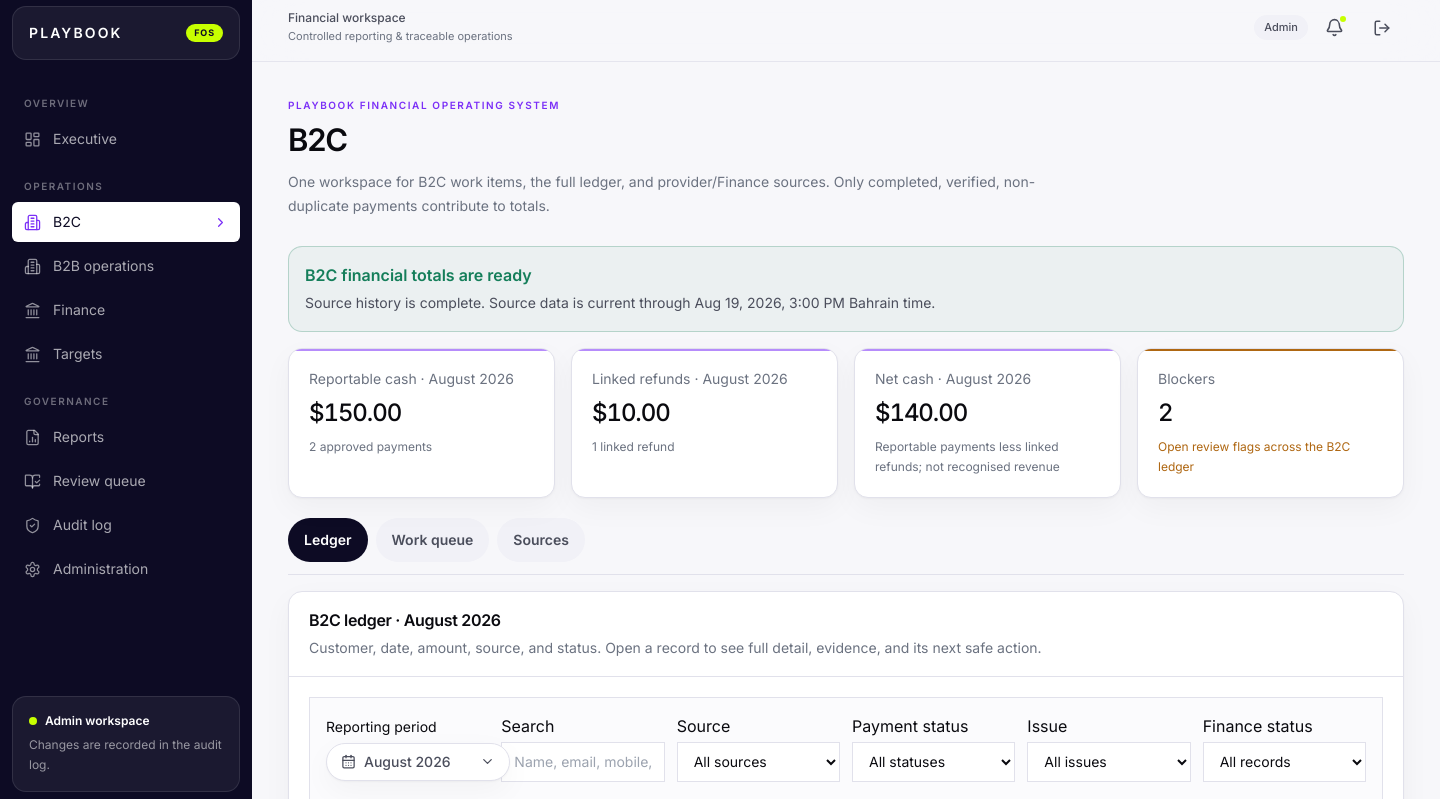
Test: Ledger › asks the server to apply a Source filter and renders the returned ledger page unchanged
Select "Stripe" in the dropdown labelled "Source" at (758, 762), box [677,742,840,782]
(page scrolled)
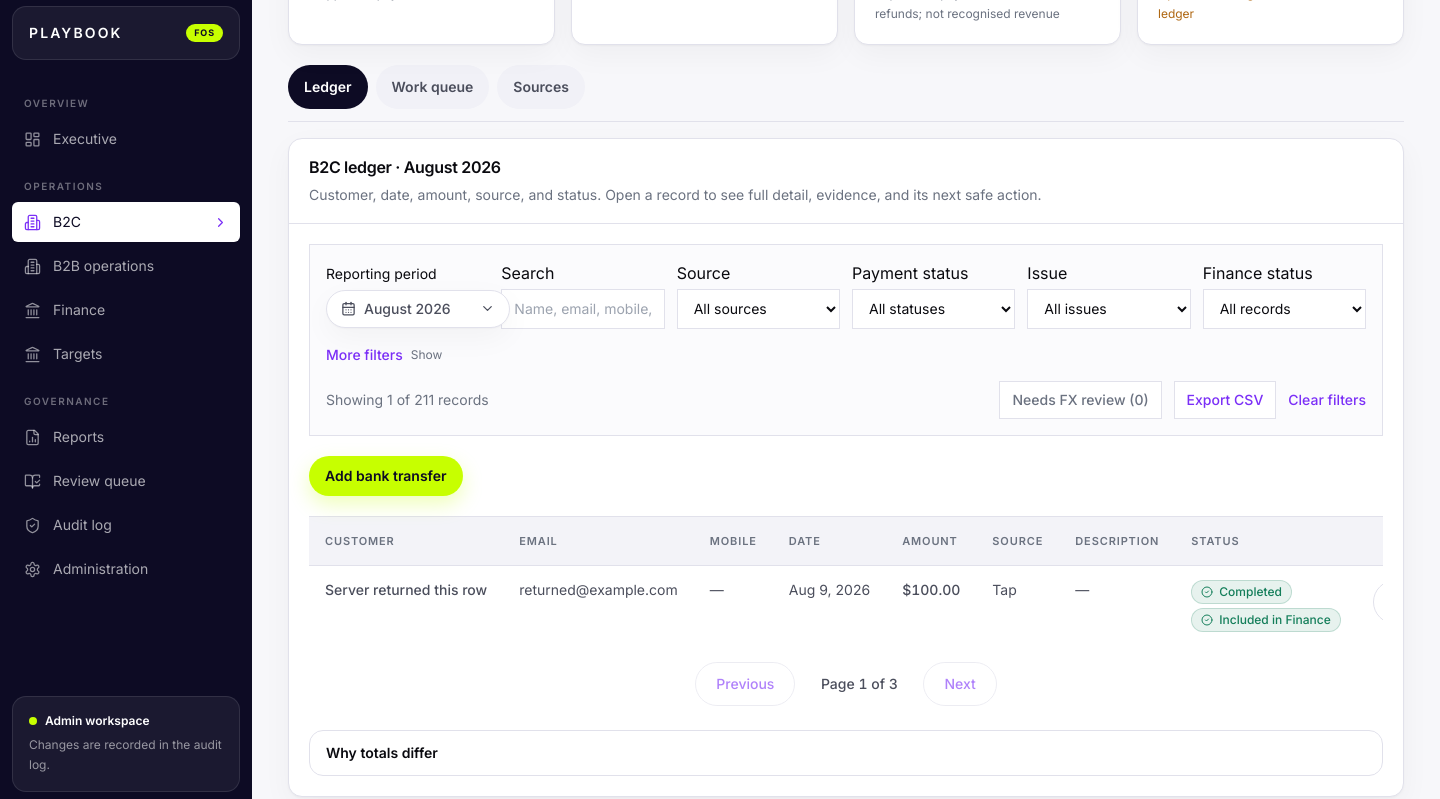
Expected: the text "Server returned this row" is shown, [309,566,503,646]
Expected: the text "Showing 1 of 211 records" is shown, [326,390,489,410]
